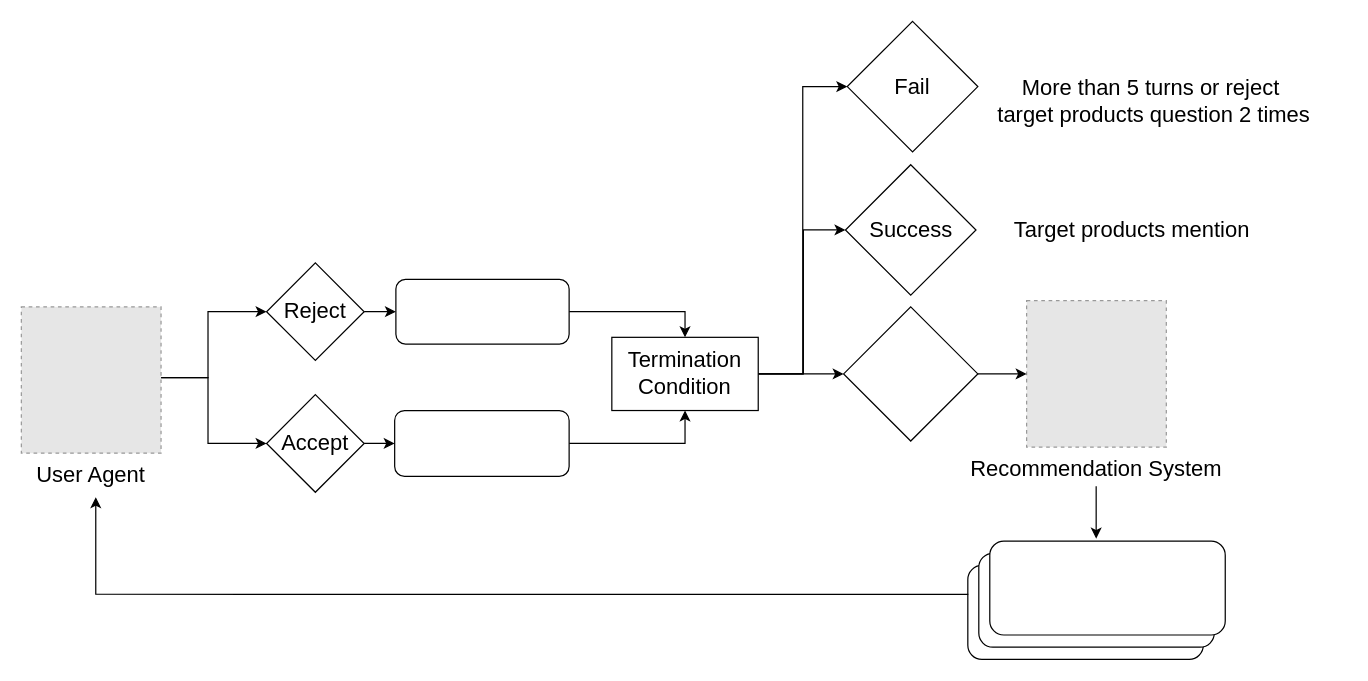
Image size: 1368x681. Some labels were removed from this diagram. Grey dashed boxes stand in for pictures. Each missing label, with the box of its shape:
Continue: (842, 306, 978, 441)
New question: (395, 278, 569, 344)
Question Recommendations: (989, 540, 1225, 635)
Recommended question: (393, 409, 569, 476)
